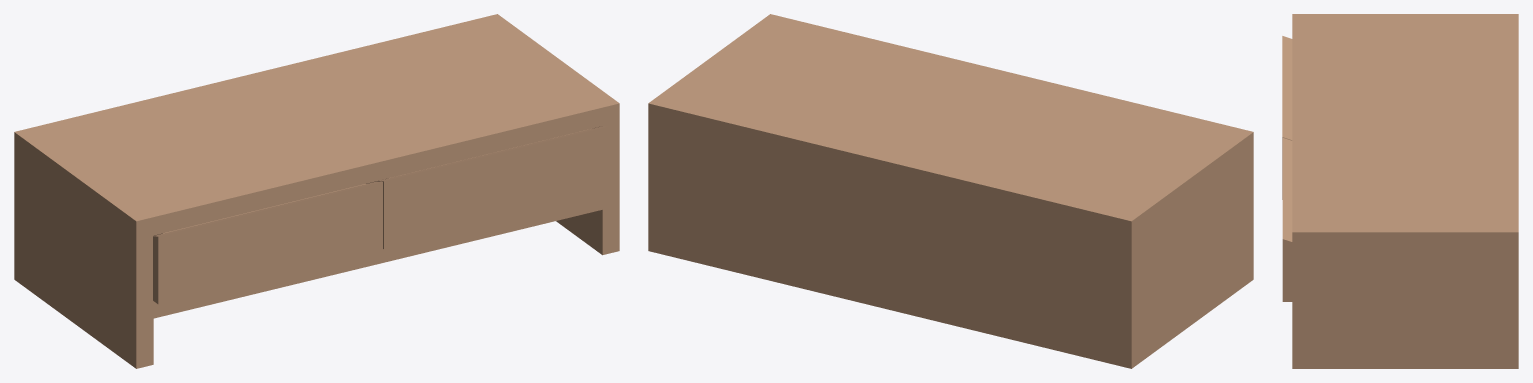
The model's file is TV_Dresser.fbx.
3 views of the same model, side by side, from view 1: azimuth 30°, elevation 25°; view 2: azimuth 150°, elevation 25°; view 3: azimuth 270°, elevation 25° (orthographic). The views are drawn at different scales.
Parts seen in each view (by area): view 1: TV_Dresser, Drawer_Right, Drawer_Left; view 2: TV_Dresser; view 3: TV_Dresser, Drawer_Left, Drawer_Right.
Boxes of the visible parts, x1=… form: TV_Dresser: x1=14, y1=14, x2=619, y2=368; Drawer_Right: x1=153, y1=181, x2=382, y2=304; Drawer_Left: x1=366, y1=126, x2=608, y2=249; TV_Dresser: x1=648, y1=14, x2=1253, y2=368; TV_Dresser: x1=1292, y1=14, x2=1518, y2=368; Drawer_Left: x1=1282, y1=138, x2=1292, y2=301; Drawer_Right: x1=1282, y1=36, x2=1292, y2=199.
Size of the model in its own units: 1.37 by 0.4 by 0.6267.
